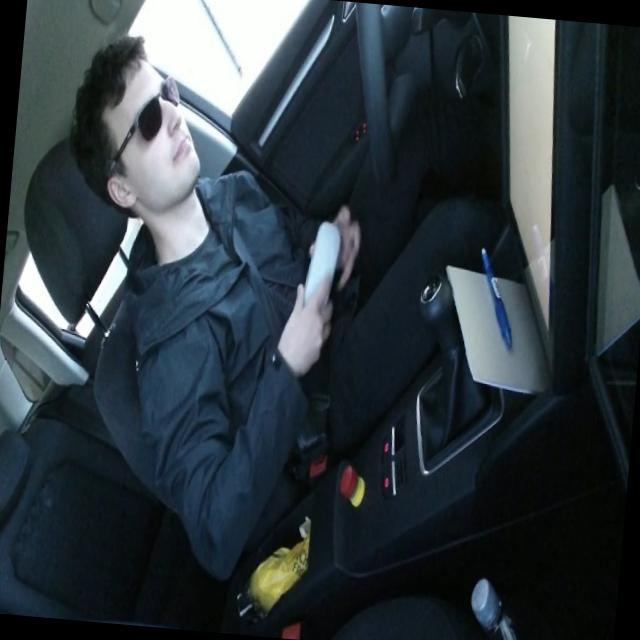pen: (471, 243, 520, 349)
